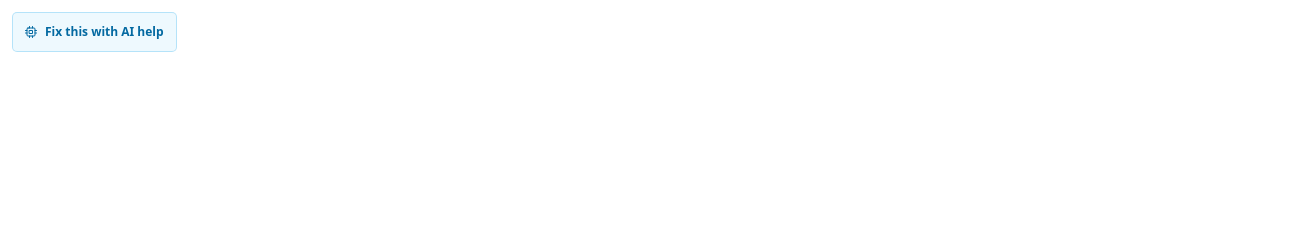
Test: applying a remediation › will not write a command this firmware did not confirm without a separate acknowledgement
Click the button "Fix this with AI help": (94, 32) [12, 12, 177, 52]
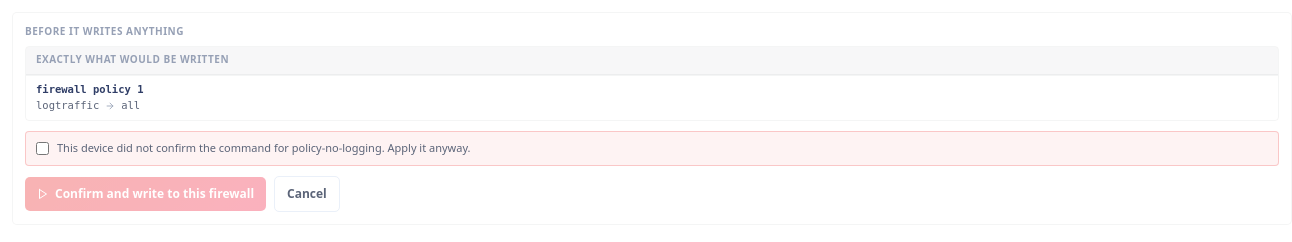
Expected: the text "did not confirm the command" is shown, [57, 140, 292, 156]
Expected: the button "Confirm and write to this firewall" is disabled, [25, 177, 266, 211]
Click the checkbox: (42, 148) [36, 142, 49, 154]
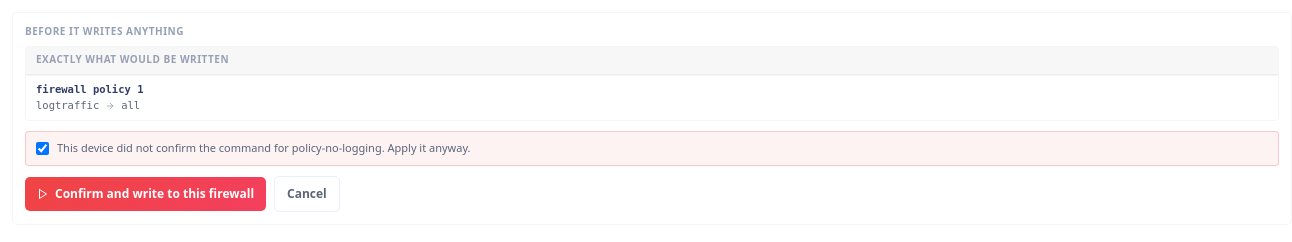
Expected: the button "Confirm and write to this firewall" is enabled, [25, 177, 266, 211]
